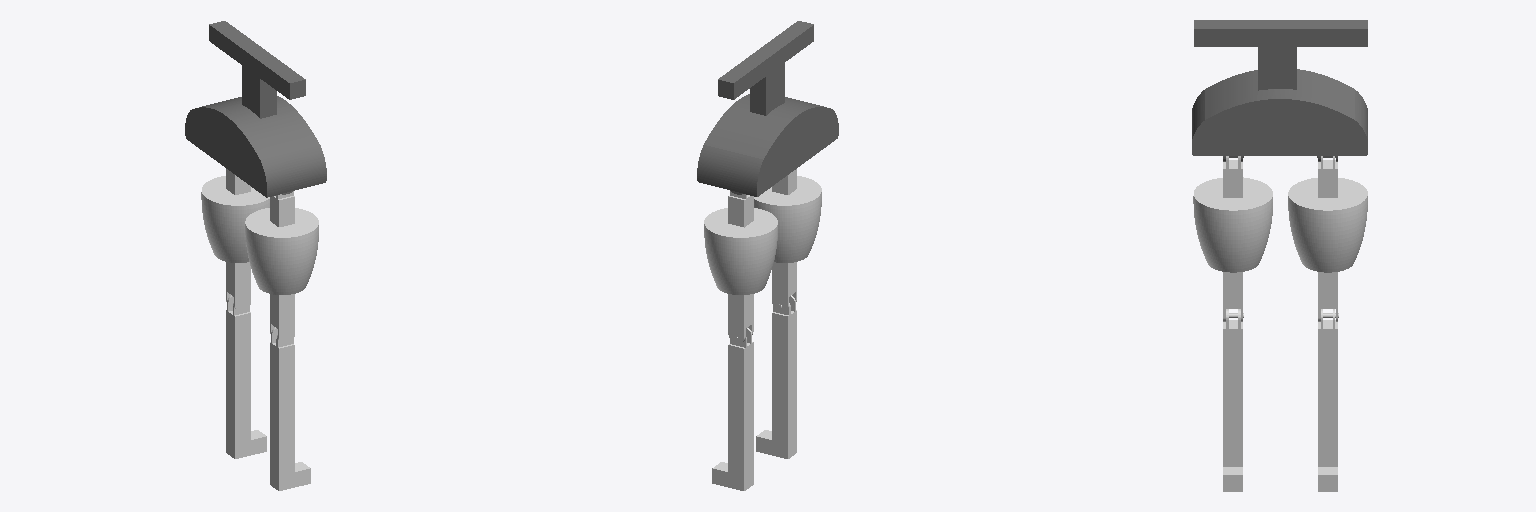
The robot description file, URDF, robot "dummy":
<?xml version="1.0" ?>
<robot name="dummy" xmlns:xacro="http://ros.org/wiki/xacro">
  <material name="metal_grey">
    <color rgba="0.5 0.5 0.5 1"/>
  </material>   
    <material name="black">
    <color rgba="0.1 0.1 0.1 1"/>
  </material>   
    <material name="white_grey">
    <color rgba="0.9 0.9 0.9 1"/>
  </material>   
  
	<link name="world"/>

  <link name="base_link">
    <visual>
      <origin rpy="1.5708 0 1.5708" xyz="0 0 0"/>
      <geometry>
        <mesh filename="meshes/body.stl" scale="0.001 0.001 0.001"/>
      </geometry>
      <material name="metal_grey"/>
    </visual>
    <collision>
      <origin rpy="0 0 0" xyz="0 0 0"/>
      <geometry>
        <cylinder length="0.075" radius="0.102"/>
      </geometry>
    </collision>
    <inertial>
      <origin rpy="0 0 0" xyz="0 0 0"/>
      <mass value="1.59306955"/>
      <inertia ixx="+0.00572623" ixy="+0.00000251" ixz="-0.00011380" iyy="+0.00558959" iyz="-0.00000014" izz="+0.00966674"/>
    </inertial>
  </link>
  
  <link name="right1_link">
    <visual>
      <origin rpy="1.5708 0 1.5708" xyz="0 0 0"/>
      <geometry>
        <mesh filename="meshes/leg1.stl" scale="0.001 0.001 0.001"/>
      </geometry>
      <material name="white_grey"/>
    </visual>
    <collision>
      <origin rpy="1.5708 0 1.5708" xyz="0 0 0"/>
      <geometry>
        <mesh filename="meshes/leg1.stl" scale="0.001 0.001 0.001"/>
      </geometry>

    </collision>

    <inertial>
      <origin rpy="0 0 0" xyz="0 0 0"/>
      <mass value="10.0"/>
      <inertia ixx="+0.15418559" ixy="-0.00000235" ixz="+0.00001739" iyy="+0.12937017" iyz="-0.04854267" izz="+0.05964415"/>
    </inertial>
  </link>  
   <link name="left1_link">
    <visual>
      <origin rpy="1.5708 0 1.5708" xyz="0 0 0"/>
      <geometry>
        <mesh filename="meshes/leg1.stl" scale="0.001 0.001 0.001"/>
      </geometry>
      <material name="white_grey"/>
    </visual>
    <collision>
      <origin rpy="1.5708 0 1.5708" xyz="0 0 0"/>
      <geometry>
        <mesh filename="meshes/leg1.stl" scale="0.001 0.001 0.001"/>
      </geometry>

    </collision>

    <inertial>
      <origin rpy="0 0 0" xyz="0 0 0"/>
      <mass value="10.0"/>
      <inertia ixx="+0.15418559" ixy="-0.00000235" ixz="+0.00001739" iyy="+0.12937017" iyz="-0.04854267" izz="+0.05964415"/>
    </inertial>
  </link>   



   <link name="left2_link">
    <visual>
      <origin rpy="1.5708 0 1.5708" xyz="0 0 0"/>
      <geometry>
        <mesh filename="meshes/leg2.stl" scale="0.001 0.001 0.001"/>
      </geometry>
      <material name="white_grey"/>
    </visual>
    <collision>
      <origin rpy="1.5708 0 1.5708" xyz="0 0 0"/>
      <geometry>
        <mesh filename="meshes/leg2.stl" scale="0.001 0.001 0.001"/>
      </geometry>

    </collision>

    <inertial>
      <origin rpy="0 0 0" xyz="0 0 0"/>
      <mass value="10.0"/>
      <inertia ixx="+0.15418559" ixy="-0.00000235" ixz="+0.00001739" iyy="+0.12937017" iyz="-0.04854267" izz="+0.05964415"/>
    </inertial>
  </link>   

  
   <link name="right2_link">
    <visual>
      <origin rpy="1.5708 0 1.5708" xyz="0 0 0"/>
      <geometry>
        <mesh filename="meshes/leg2.stl" scale="0.001 0.001 0.001"/>
      </geometry>
      <material name="white_grey"/>
    </visual>
    <collision>
      <origin rpy="1.5708 0 1.5708" xyz="0 0 0"/>
      <geometry>
        <mesh filename="meshes/leg2.stl" scale="0.001 0.001 0.001"/>
      </geometry>

    </collision>

    <inertial>
      <origin rpy="0 0 0" xyz="0 0 0"/>
      <mass value="10.0"/>
      <inertia ixx="+0.15418559" ixy="-0.00000235" ixz="+0.00001739" iyy="+0.12937017" iyz="-0.04854267" izz="+0.05964415"/>
    </inertial>
  </link>   
  
  <joint name="world_to_base" type="fixed">
    <parent link="world"/>
    <child link="base_link"/>
    <origin rpy="0 0 0" xyz="0 0 1"/>
  </joint>
  
  
  <joint name="right0" type="revolute">
    <parent link="base_link"/>
    <child link="right1_link"/>
    <origin rpy="0 0 0" xyz="0 -0.095 -0.266"/>
    <axis xyz="0 1 0"/>
    <limit effort="10" lower="-3.05432619099" upper="3.05432619099" velocity="1"/>
  </joint>  
  
  <joint name="left0" type="revolute">
    <parent link="base_link"/>
    <child link="left1_link"/>
    <origin rpy="0 0 0" xyz="0 0.095 -0.266"/>
    <axis xyz="0 1 0"/>
    <limit effort="10" lower="-3.05432619099" upper="3.05432619099" velocity="1"/>
  </joint>    
  
  <joint name="left1" type="revolute">
    <parent link="left1_link"/>
    <child link="left2_link"/>
    <origin rpy="0 0 0" xyz="0 0.00 -0.355"/>
    <axis xyz="0 1 0"/>
    <limit effort="10" lower="-3.05432619099" upper="3.05432619099" velocity="1"/>
  </joint>     
  
  <joint name="right1" type="revolute">
    <parent link="right1_link"/>
    <child link="right2_link"/>
    <origin rpy="0 0 0" xyz="0 0.00 -0.355"/>
    <axis xyz="0 1 0"/>
    <limit effort="10" lower="-3.05432619099" upper="3.05432619099" velocity="1"/>
  </joint>        
</robot>

--- What the picture shows (computed from the rendered views, not written in the file) ---
The picture shows the robot from 3 angles, left to right: view 1: azimuth 30°, elevation 25°; view 2: azimuth 150°, elevation 25°; view 3: azimuth 270°, elevation 25°; orthographic projection.
Model dummy with 6 links and 5 joints (4 revolute, 1 fixed), rooted at world, posed every joint at zero.
Visible links, largest first — view 1: base_link, right1_link, left1_link, left2_link, right2_link; view 2: base_link, left1_link, right1_link, left2_link, right2_link; view 3: base_link, left1_link, right1_link, right2_link, left2_link.
Link boxes in pixels (x1,y1,x2,y2): base_link: (185, 21, 326, 197); right1_link: (245, 191, 318, 342); left1_link: (201, 169, 269, 310); left2_link: (226, 295, 266, 458); right2_link: (270, 327, 310, 490); base_link: (697, 21, 838, 196); left1_link: (704, 191, 777, 342); right1_link: (754, 169, 821, 310); left2_link: (712, 328, 753, 490); right2_link: (756, 295, 796, 458); base_link: (1192, 20, 1367, 161); left1_link: (1288, 156, 1367, 321); right1_link: (1193, 156, 1272, 321); right2_link: (1223, 309, 1242, 491); left2_link: (1318, 309, 1337, 491).
Bounding box of the posed robot: 0.1678 × 0.3549 × 1 m (x, y, z).
5 mesh visuals loaded from 3 distinct referenced files (3 binary STL).